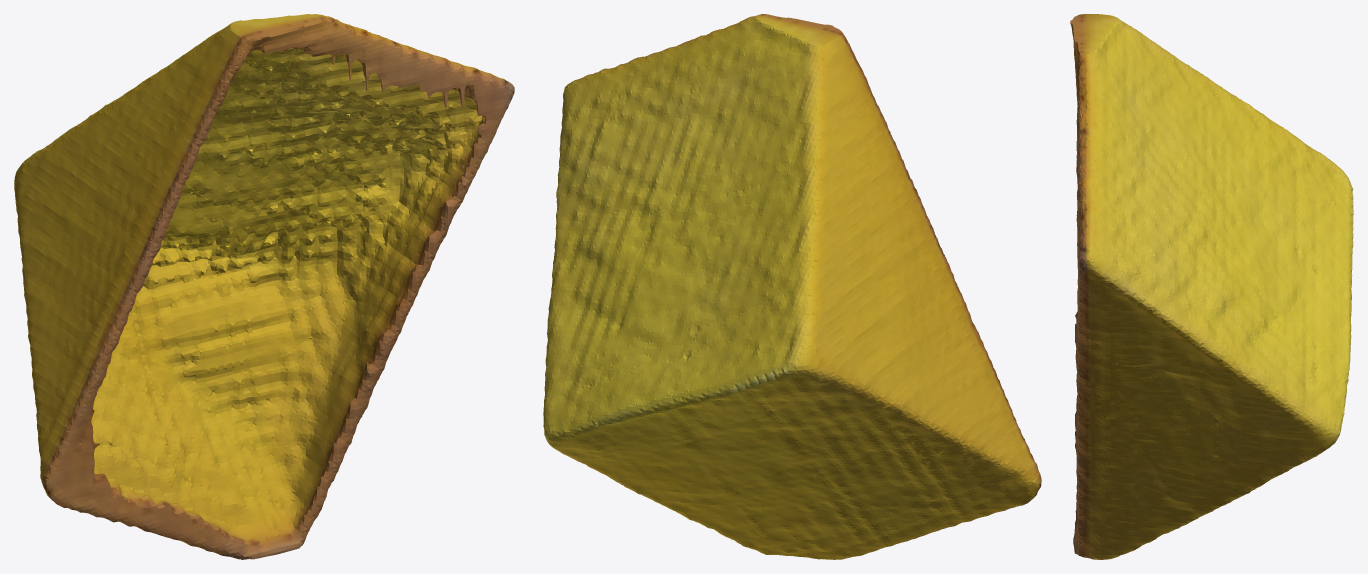
File: obj0_scaled.glb
3 renders of one model, left to right at view 1: azimuth 30°, elevation 25°; view 2: azimuth 150°, elevation 25°; view 3: azimuth 270°, elevation 25°, orthographic.
Visible parts, largest first — view 1: world; view 2: world; view 3: world.
Boxes of the visible parts, box(x1,y1,x2,y2) form: world: box(14, 14, 514, 559); world: box(543, 14, 1041, 559); world: box(1070, 14, 1353, 559).
Bounding box in the file's own units: 0.0464 × 0.0492 × 0.0245.
